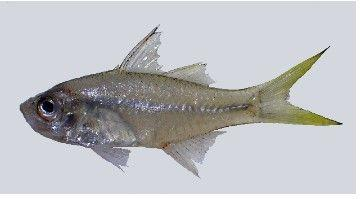Glass Perchlet: (21, 23, 343, 180)
